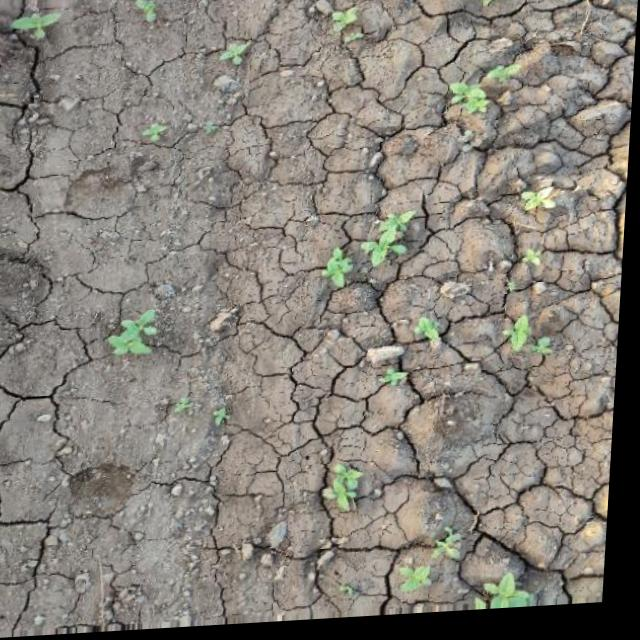crop: (323, 215, 424, 289), (451, 68, 519, 120), (108, 307, 164, 363), (8, 7, 85, 47), (512, 321, 558, 368), (333, 463, 370, 520), (515, 188, 569, 225), (327, 9, 371, 48), (219, 36, 256, 73), (418, 318, 448, 355)
